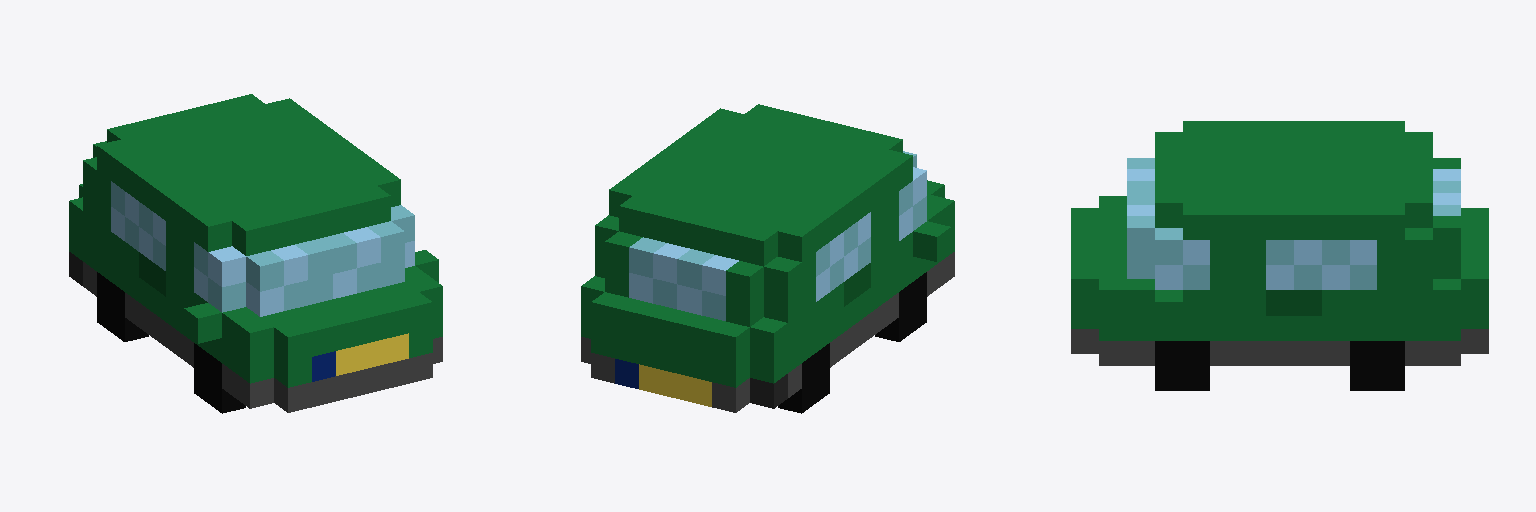
The picture shows the model from 3 angles: view 1: azimuth 30°, elevation 25°; view 2: azimuth 150°, elevation 25°; view 3: azimuth 270°, elevation 25°; orthographic projection.
Visible parts, largest first — view 1: object 1; view 2: object 1; view 3: object 1.
Boxes of the visible parts, x1=… form: object 1: x1=69, y1=94, x2=442, y2=413; object 1: x1=581, y1=104, x2=954, y2=413; object 1: x1=1071, y1=121, x2=1488, y2=390.
Size of the model in its own units: 1 by 0.7 by 1.5.
1 materials, 1 textured.